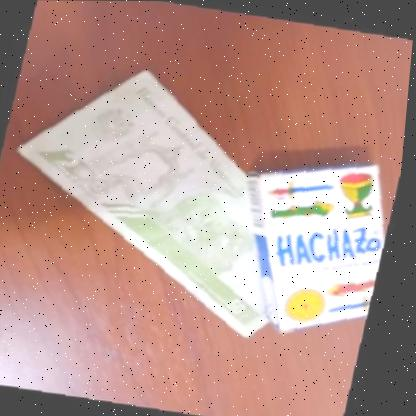fifty-back-vef: (0, 54, 320, 340)
